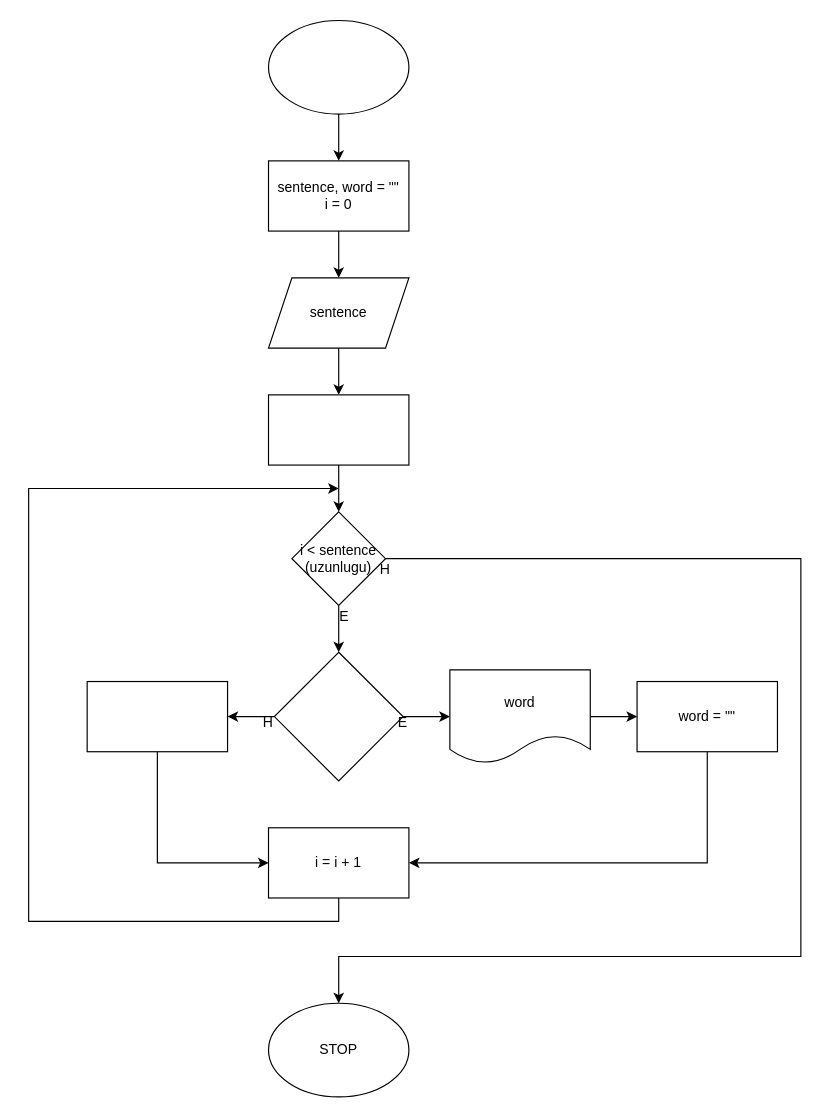
This 831x1117 diagram has some shape labels left out. The shapes that lost their labels are listed below. From the top down, each one's box as (x1, y1, x2, y2) in pixels, then its label:
(267, 19, 409, 114): START
(267, 394, 409, 465): sentence sonuna " " ekle
(86, 680, 228, 752): word = word + sentence i'ninci elemani
(273, 651, 403, 781): sentence i' ninci elemani esit " "
